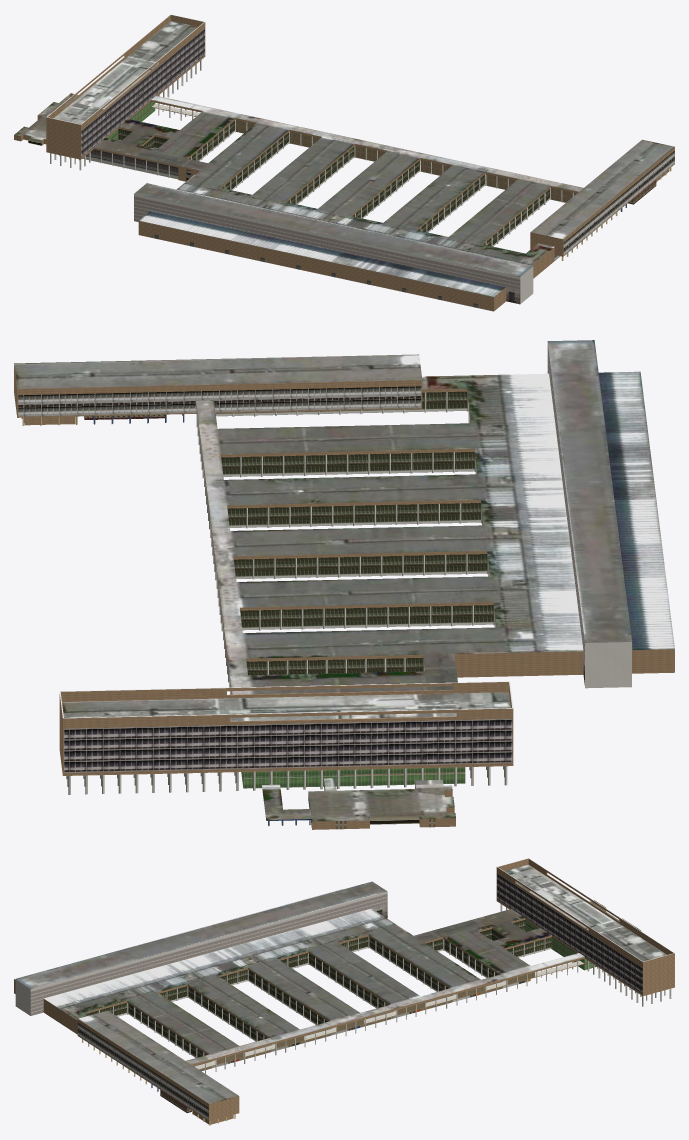
3 views of the same model, one above another, from view 1: azimuth 30°, elevation 25°; view 2: azimuth 150°, elevation 25°; view 3: azimuth 270°, elevation 25° (orthographic). The views are drawn at different scales.
Parts seen in each view (by area): view 1: Group13, Group29, fundao (×10), Group23, alumin_jan, bloco_1_lado_a, Group16, Group2, parede_interna (×5), faixa_02_1_2 (×2), bloco_1_lado_b, fundo_mod (+6 smaller); view 2: Group13, bloco_1_lado_a12, parede_interna12 (×5), Group29, Group23, Group16, Group2, faixa_02 (×2), bloco_2_lado_a, Group20, bloco_1_lado_a, vazio (×4) (+8 smaller); view 3: Group13, Group29, bloco_1_lado_a, alumin_jan, parede_interna (×5), Group16, Group2, faixa_02_1_2 (×2), bloco_1_lado_b, bloco_2_lado_a12, _3rr, Group4 (+8 smaller).
Part boxes in pixels (bbox=[...]): Group13: bbox=[94, 96, 583, 265]; Group29: bbox=[134, 183, 532, 276]; fundao (×10): bbox=[138, 221, 493, 311]; Group23: bbox=[139, 210, 505, 296]; alumin_jan: bbox=[134, 195, 520, 289]; bloco_1_lado_a: bbox=[81, 22, 205, 159]; Group16: bbox=[531, 139, 674, 239]; Group2: bbox=[53, 21, 197, 124]; parede_interna (×5): bbox=[222, 132, 549, 246]; faixa_02_1_2 (×2): bbox=[563, 151, 674, 255]; bloco_1_lado_b: bbox=[46, 117, 80, 159]; fundo_mod: bbox=[82, 149, 178, 179]; Group13: bbox=[196, 373, 583, 694]; bloco_1_lado_a12: bbox=[63, 708, 513, 775]; parede_interna12 (×5): bbox=[215, 391, 493, 630]; Group29: bbox=[547, 340, 631, 642]; Group23: bbox=[598, 371, 674, 649]; Group16: bbox=[14, 354, 422, 388]; Group2: bbox=[62, 692, 510, 721]; faixa_02 (×2): bbox=[18, 386, 421, 416]; bloco_2_lado_a: bbox=[17, 380, 422, 417]; Group20: bbox=[308, 778, 455, 821]; bloco_1_lado_a: bbox=[60, 681, 509, 701]; vazio (×4): bbox=[220, 448, 493, 610]; Group13: bbox=[44, 908, 584, 1064]; Group29: bbox=[16, 881, 386, 988]; bloco_1_lado_a: bbox=[496, 867, 642, 995]; alumin_jan: bbox=[30, 893, 387, 1015]; parede_interna (×5): bbox=[128, 937, 452, 1057]; Group16: bbox=[78, 1010, 238, 1104]; Group2: bbox=[505, 864, 666, 961]; faixa_02_1_2 (×2): bbox=[78, 1023, 208, 1120]; bloco_1_lado_b: bbox=[643, 953, 674, 995]; bloco_2_lado_a12: bbox=[77, 1019, 208, 1120]; _3rr: bbox=[195, 960, 583, 1069]; Group4: bbox=[191, 957, 584, 1065].
Bounding box in the file's own units: 393 × 490 × 38.
31 materials, 30 textured.
